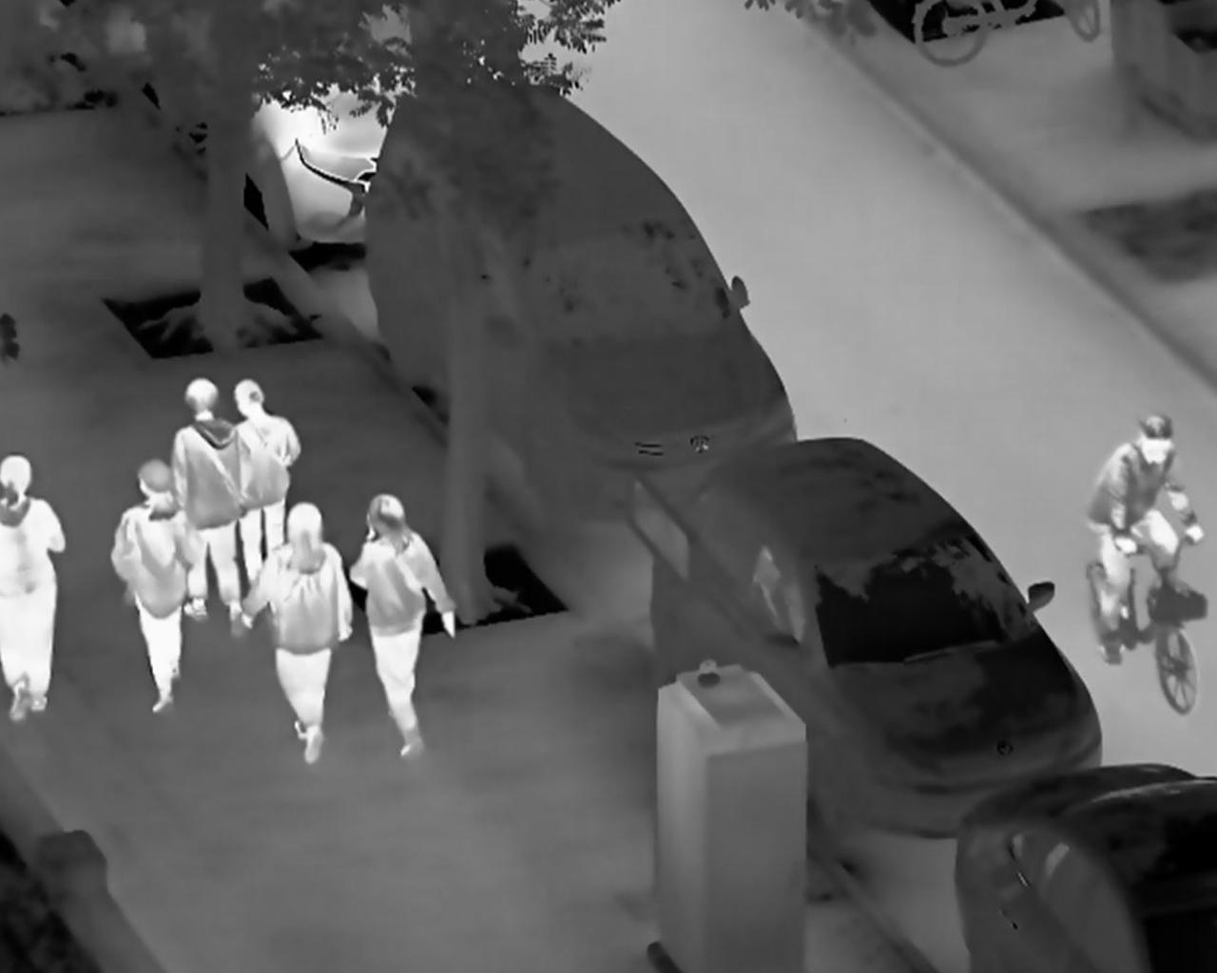person: (1080, 410, 1203, 672), (236, 501, 352, 765), (344, 492, 456, 761), (106, 462, 204, 717), (168, 378, 245, 623), (229, 375, 302, 587)
